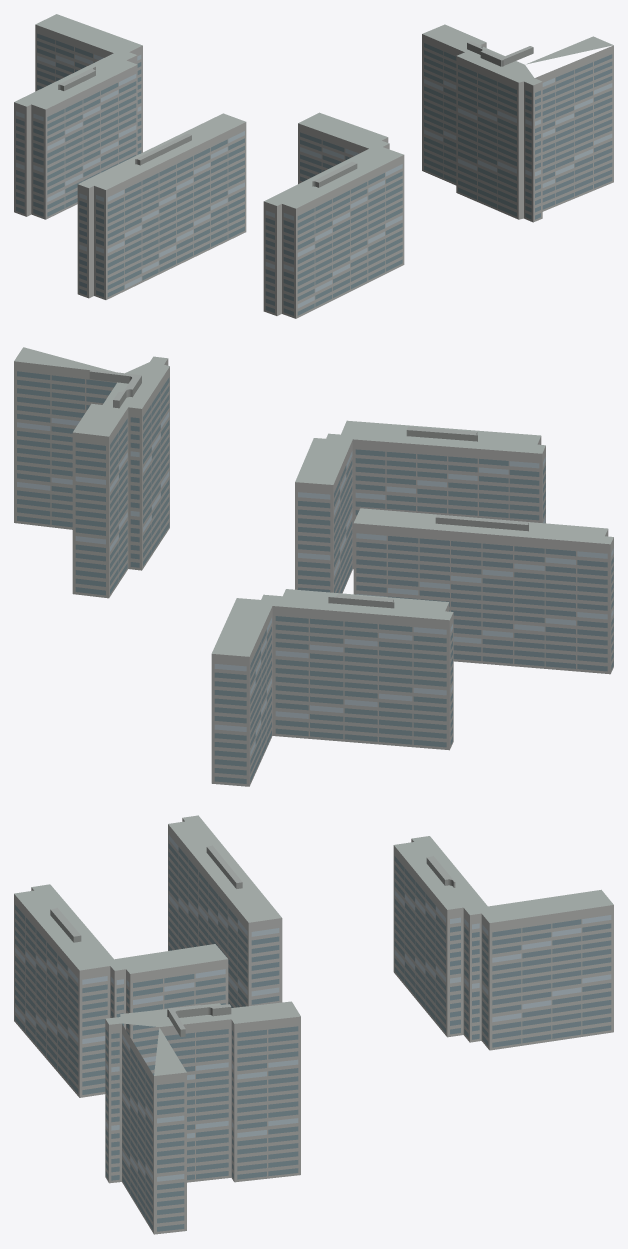
The model's file is apt-a13980511.glb.
The picture shows the model from 3 angles, top to bottom: view 1: azimuth 30°, elevation 25°; view 2: azimuth 150°, elevation 25°; view 3: azimuth 270°, elevation 25°; orthographic projection. The views are drawn at different scales.
Parts seen in each view (by area): view 1: apt-a13980511; view 2: apt-a13980511; view 3: apt-a13980511.
Part boxes in pixels (box(x1,y1,x2,y2)): apt-a13980511: box(14, 14, 613, 318); apt-a13980511: box(14, 347, 613, 786); apt-a13980511: box(14, 815, 613, 1234).
Bounding box in the file's own units: 192 × 51 × 167.
